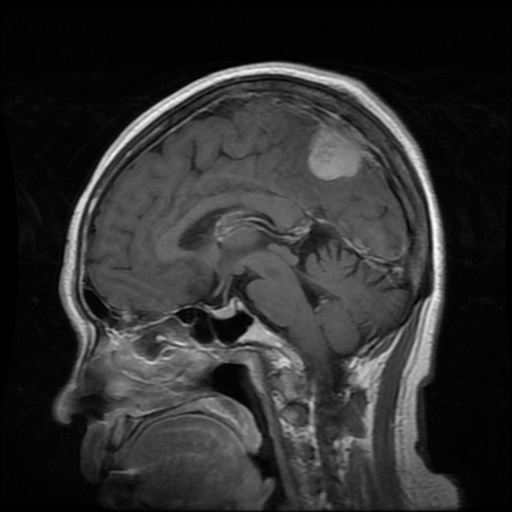meningioma: (307, 118, 366, 179)
